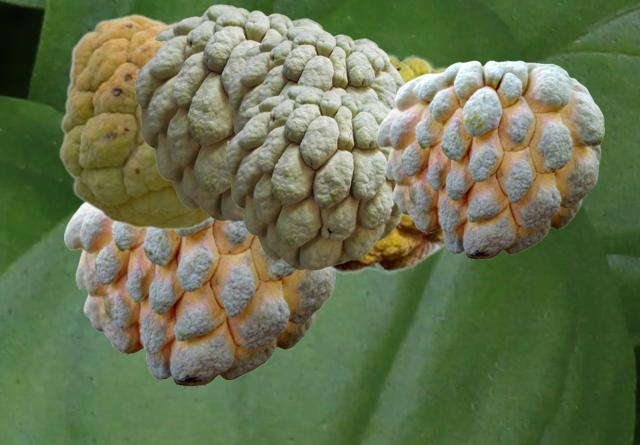atis: (64, 202, 337, 385), (376, 60, 603, 258), (134, 4, 327, 220), (58, 13, 212, 229), (225, 85, 402, 269), (327, 53, 447, 273), (228, 27, 404, 134)
